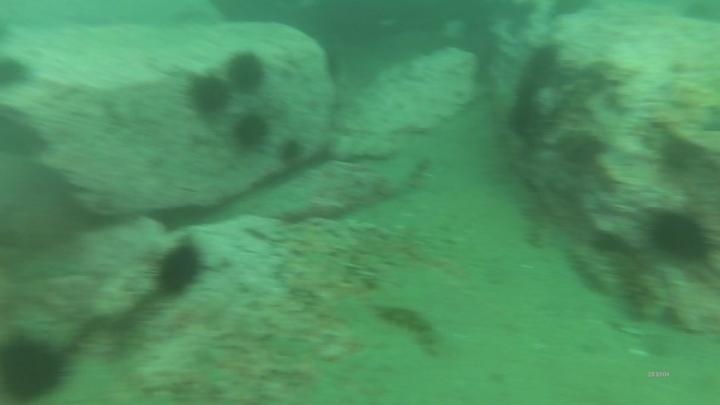echinus: (1, 332, 84, 402), (639, 203, 720, 267), (512, 40, 560, 139), (157, 240, 212, 302), (181, 70, 233, 124), (226, 49, 272, 97), (231, 107, 272, 157), (276, 136, 310, 164)
holothurian: (601, 241, 677, 328), (375, 293, 444, 359), (567, 242, 614, 298)
